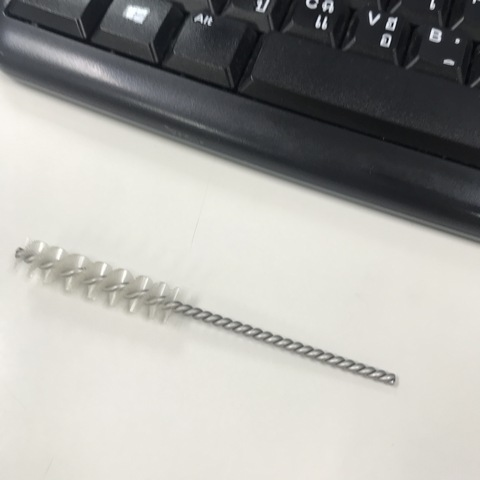Twist Brush-B: (12, 240, 401, 386)
